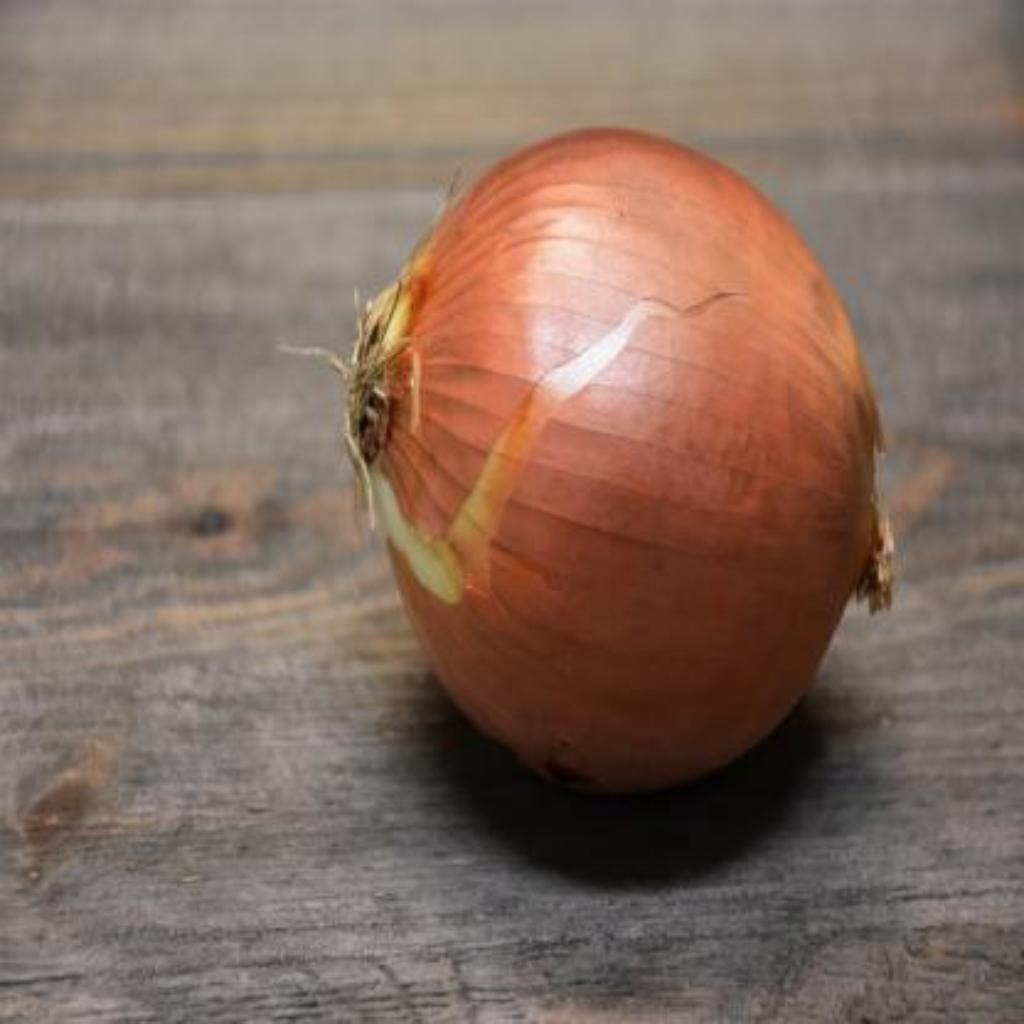Onion: (330, 128, 894, 795)
